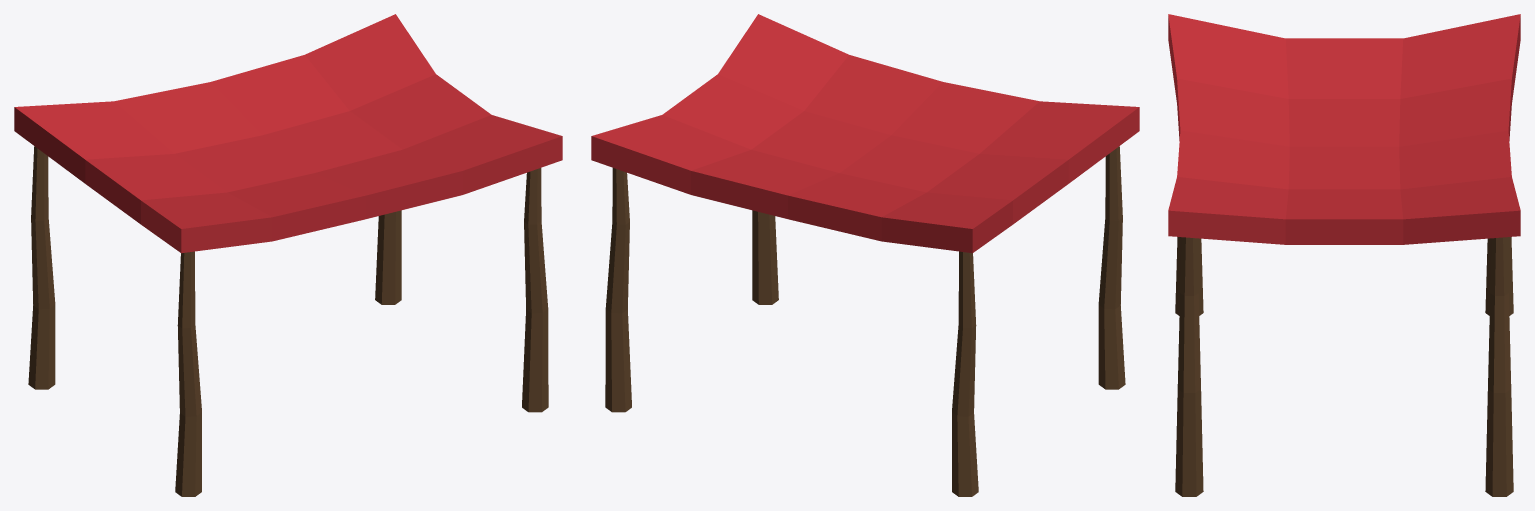
The model's file is egypt-stand.glb.
3 views of the same model, side by side, from view 1: azimuth 30°, elevation 25°; view 2: azimuth 150°, elevation 25°; view 3: azimuth 270°, elevation 25° (orthographic). The views are drawn at different scales.
Visible parts, largest first — view 1: egypt-stand; view 2: egypt-stand; view 3: egypt-stand.
Boxes of the visible parts, x1,y1,x2,y2 form: egypt-stand: (14, 14, 562, 496); egypt-stand: (591, 14, 1139, 496); egypt-stand: (1168, 14, 1520, 496).
Bounding box in the file's own units: 3.3 × 2.27 × 2.5.
Materials: 1 (1 with a texture image).
